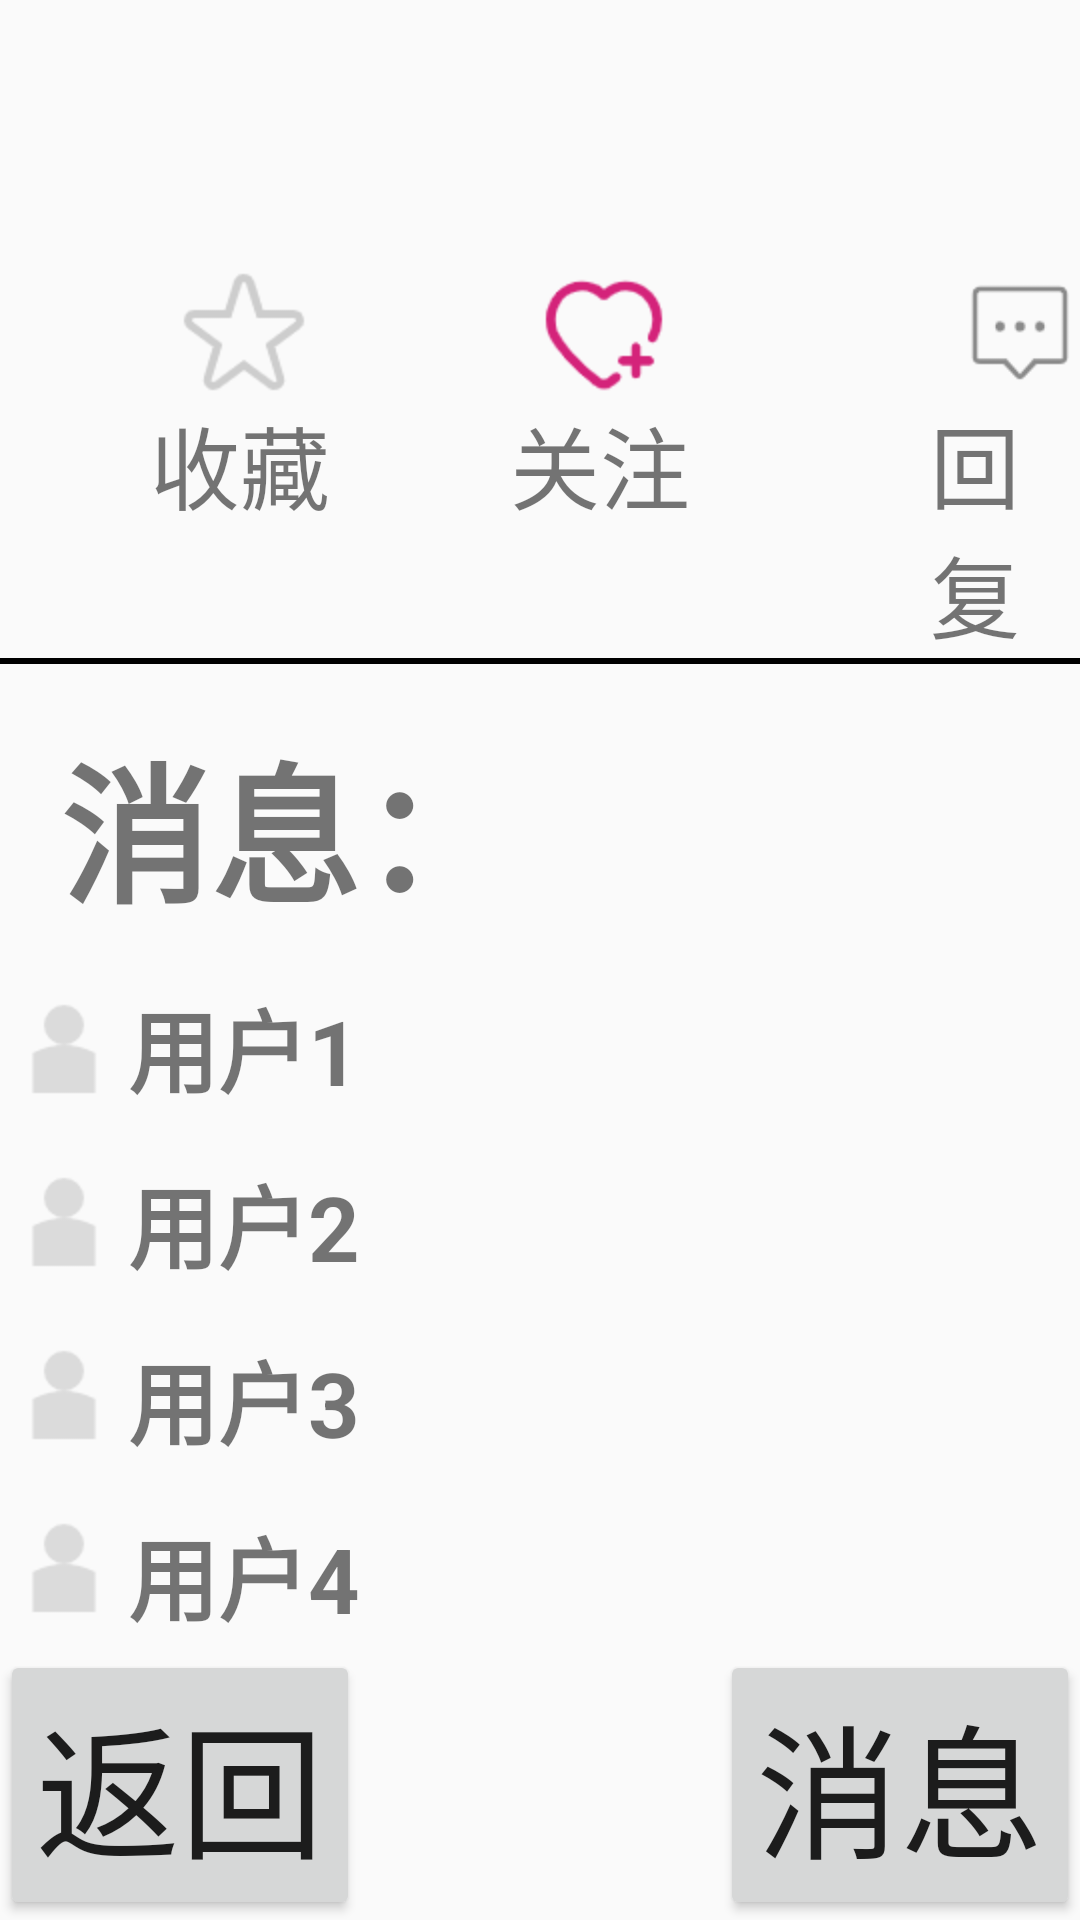

Locate icon controls on the screen. Image size 1080 x 1920, boxes as (x1, y1, x2, y2).
comment: (972, 286, 1068, 380)
